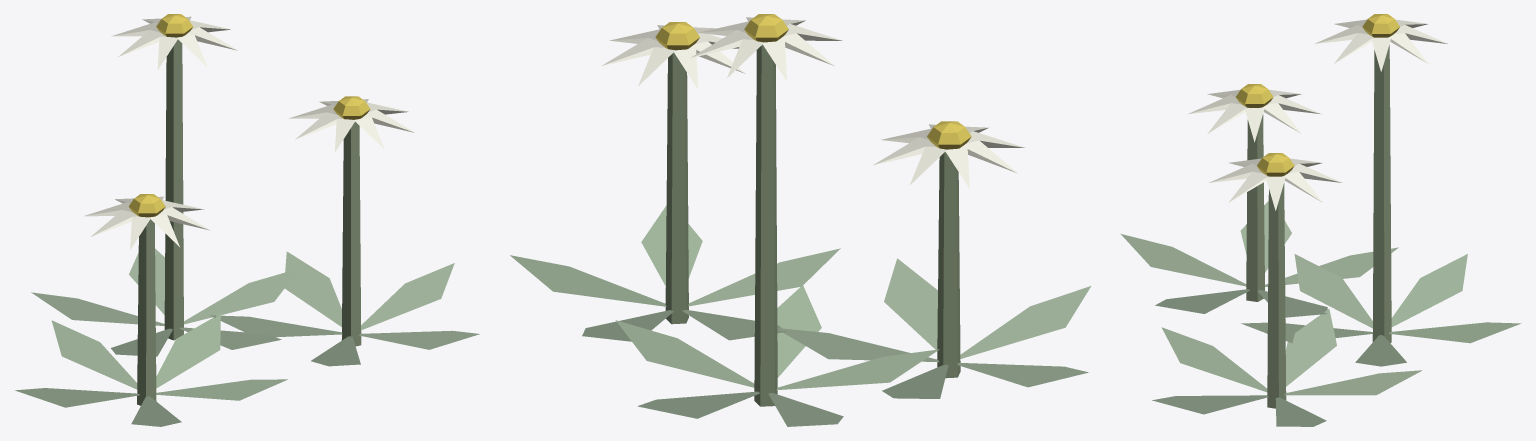
Rendered from Trail_Edelweiss.obj.
The picture shows the model from 3 angles, left to right: view 1: azimuth 30°, elevation 25°; view 2: azimuth 150°, elevation 25°; view 3: azimuth 270°, elevation 25°; orthographic projection. The views are drawn at different scales.
Parts seen in each view (by area): view 1: Trail_Edelweiss; view 2: Trail_Edelweiss; view 3: Trail_Edelweiss.
Boxes of the visible parts, x1=… form: Trail_Edelweiss: x1=15, y1=14, x2=479, y2=426; Trail_Edelweiss: x1=510, y1=14, x2=1090, y2=426; Trail_Edelweiss: x1=1120, y1=14, x2=1521, y2=426.
Size of the model in its own units: 0.2572 by 0.171 by 0.1903.
